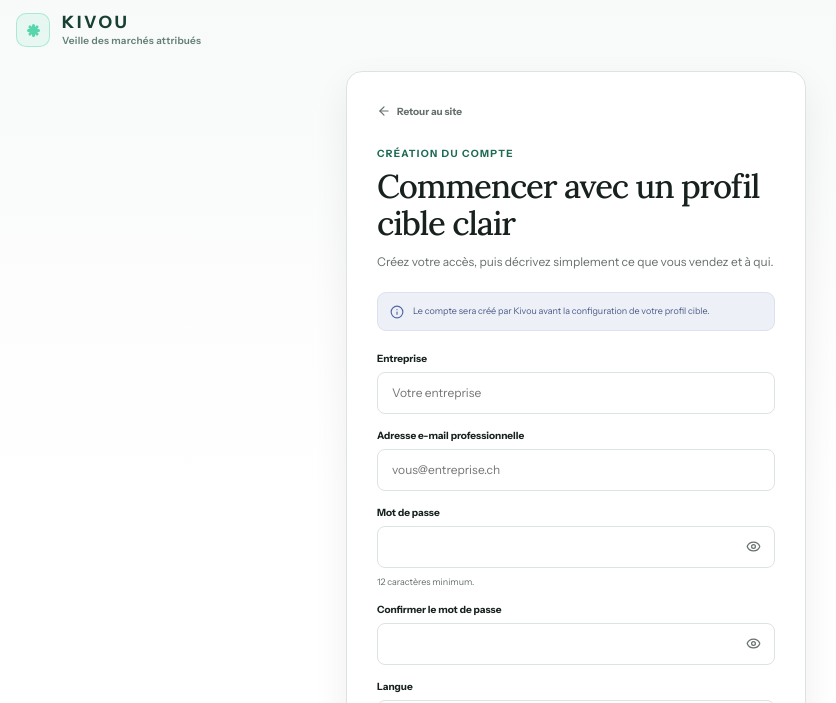
Test: inscription › refuse une adresse vide sans appeler l’API
Type "Acme" into the field labelled "Entreprise". click: (576, 392)
box: [377,372,775,414]
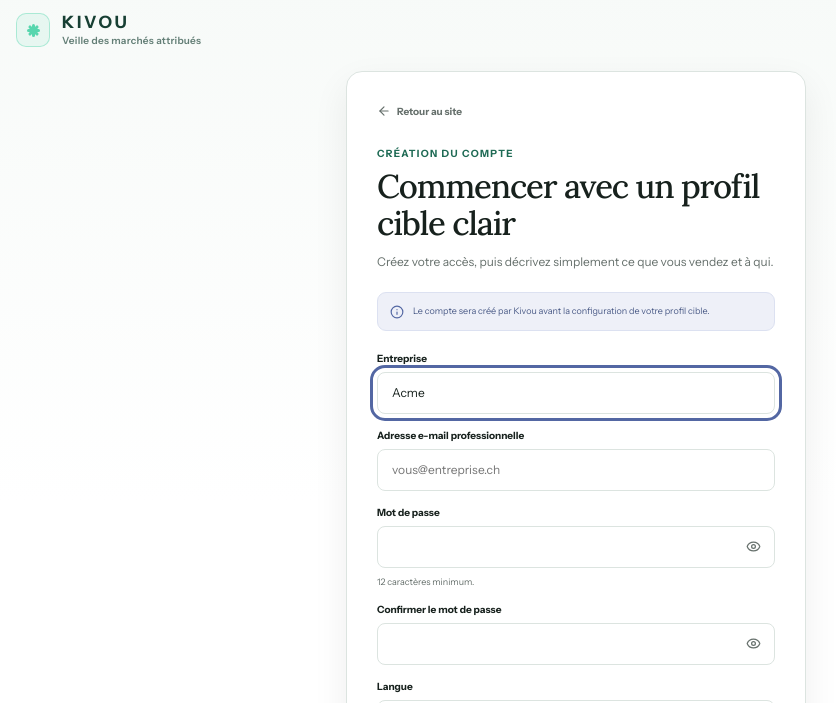
Type "motdepassesolide" into the password field labelled "Mot de passe". click: (576, 546)
box: [377,526,775,568]
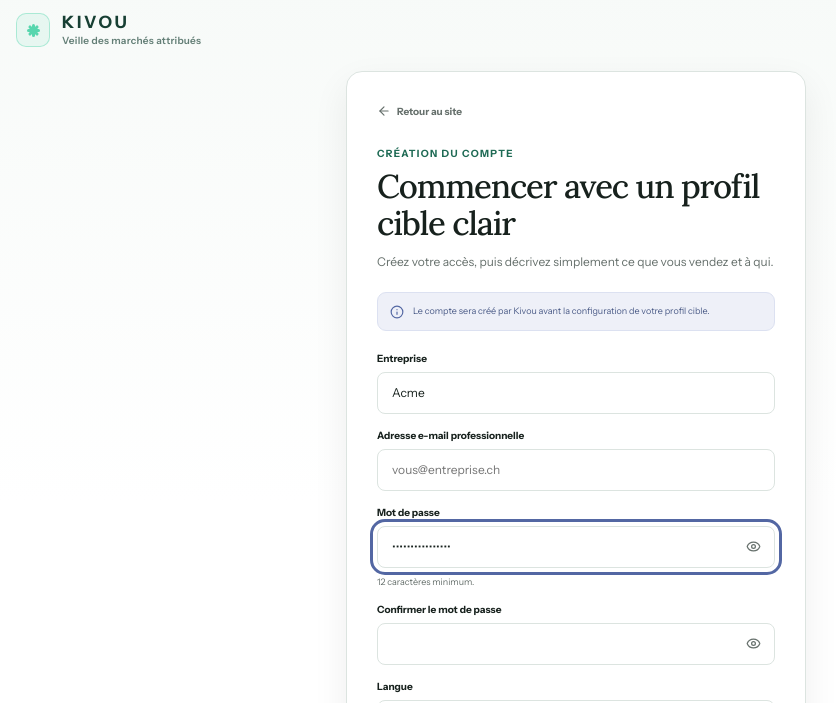
Type "motdepassesolide" into the password field labelled "Confirmer le mot de passe". click: (576, 644)
box: [377,623,775,665]
(page scrolled)
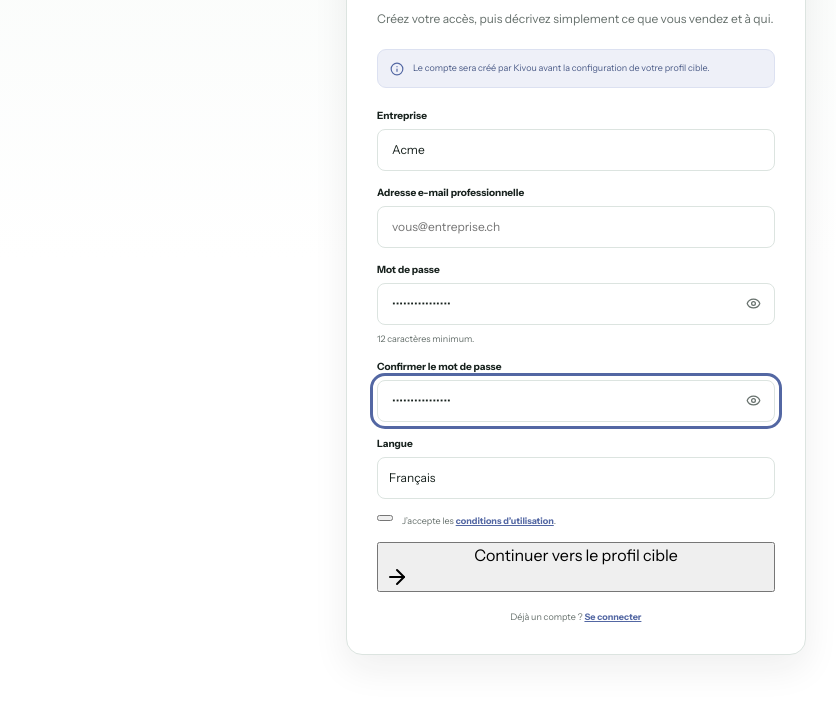
Click the checkbox. click: click(385, 518)
box: [377,515,393,521]
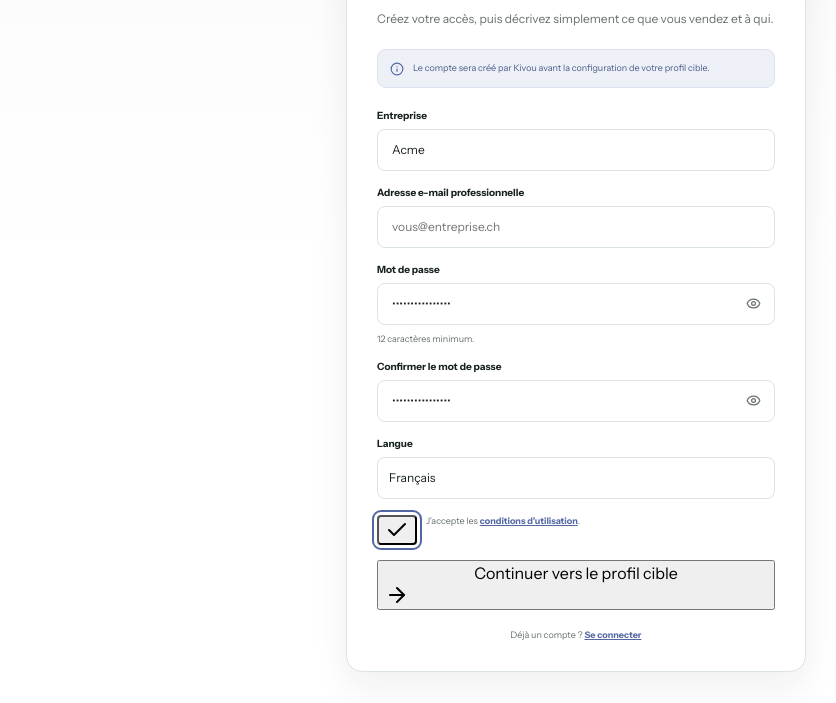
Click the button "Continuer vers le profil cible". click: click(576, 585)
box: [377,560,775,610]
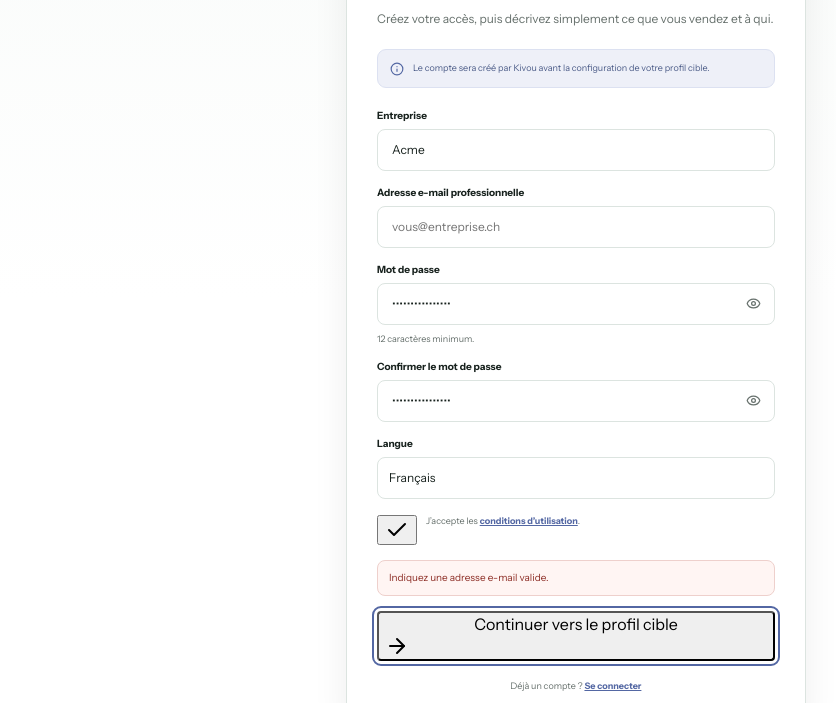
Expected: the message shows "adresse e-mail valide", [389,571,548,584]
